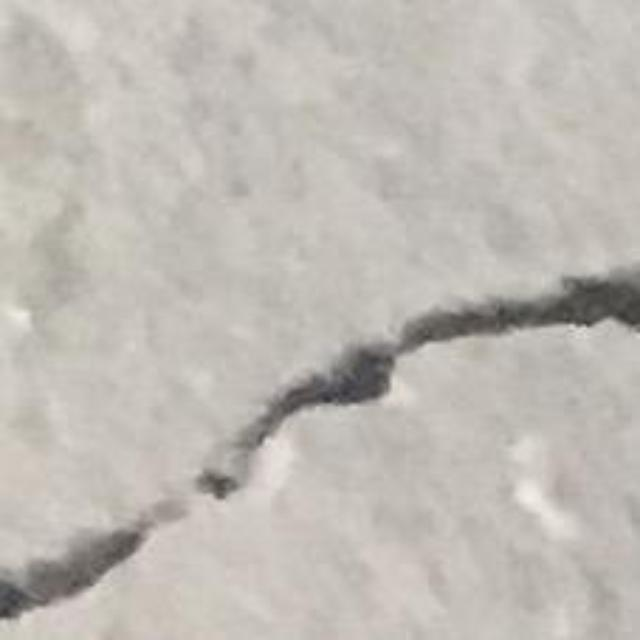crack: (0, 271, 639, 620)
